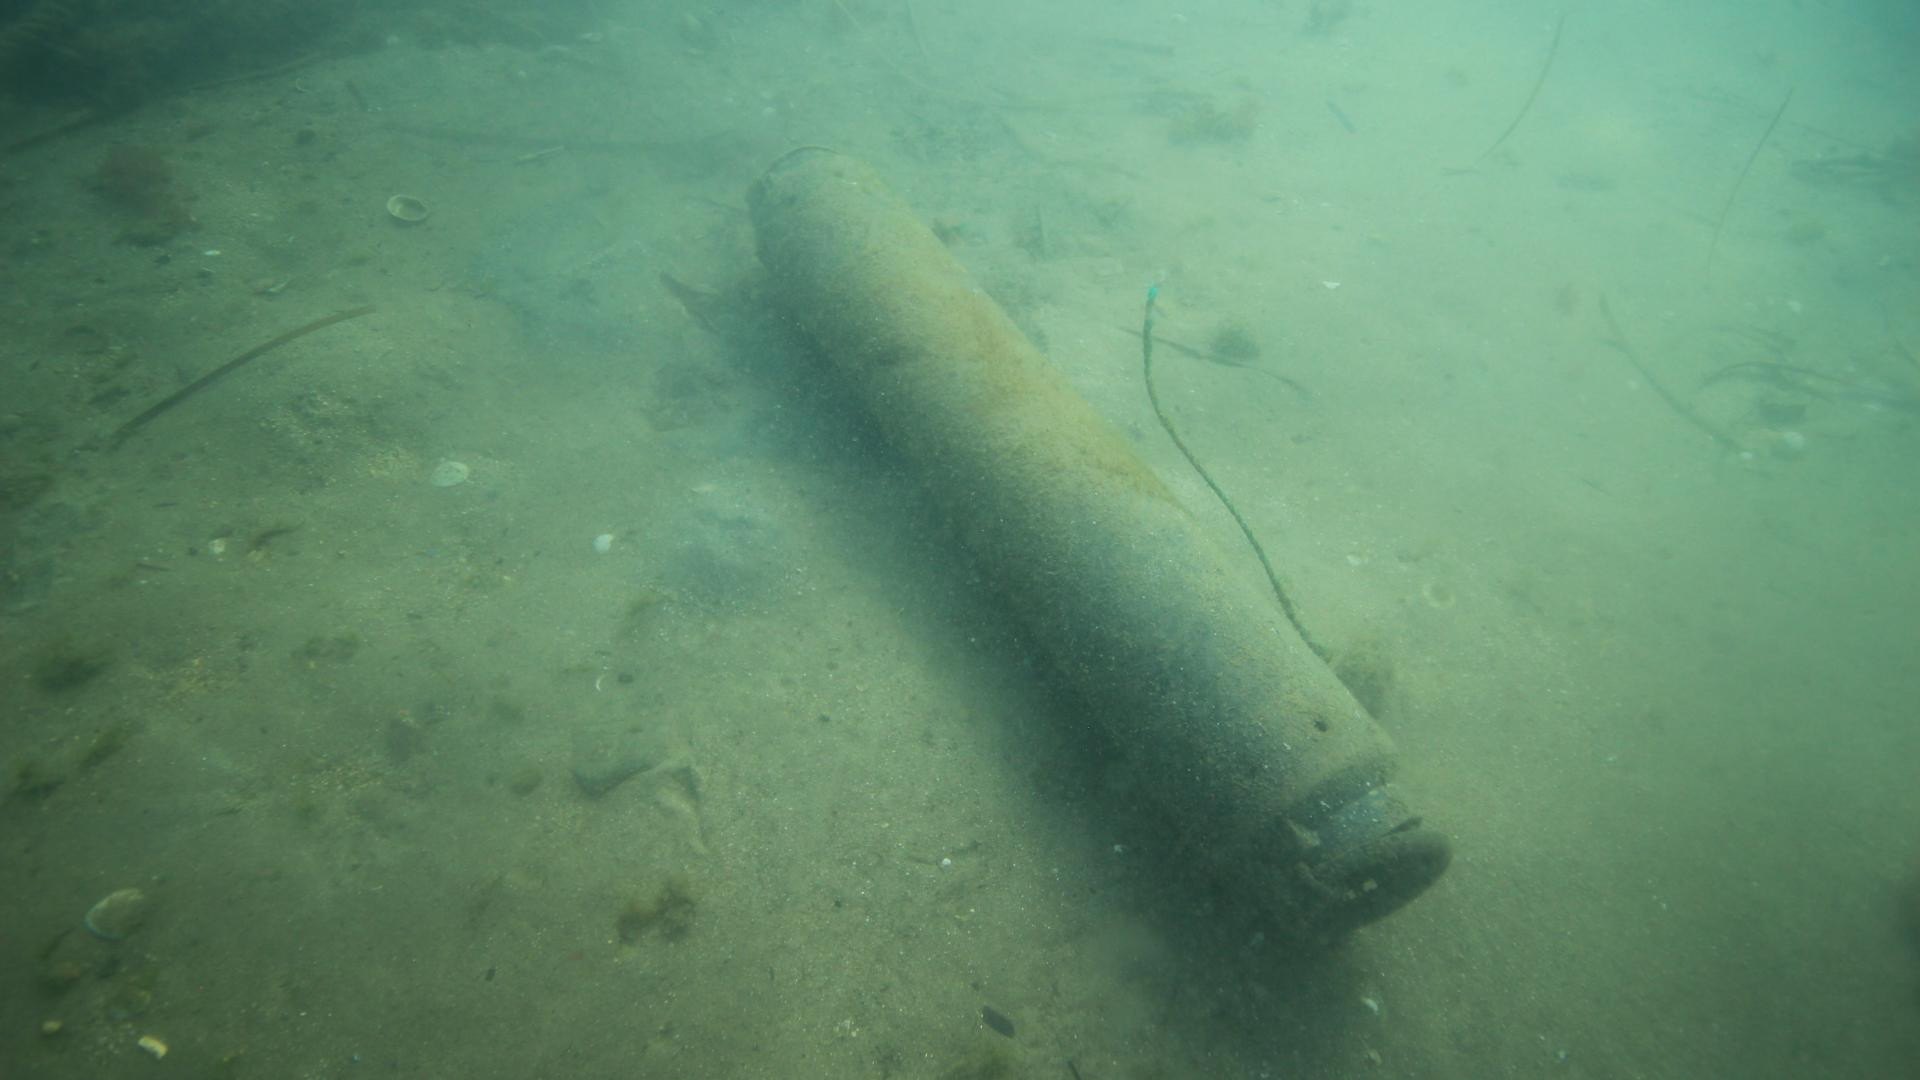eel fish trap: (740, 140, 1451, 935)
rope: (1135, 280, 1338, 665)
